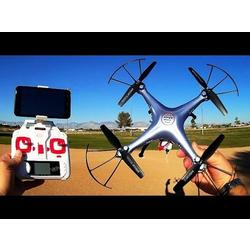drone: (86, 57, 240, 190)
